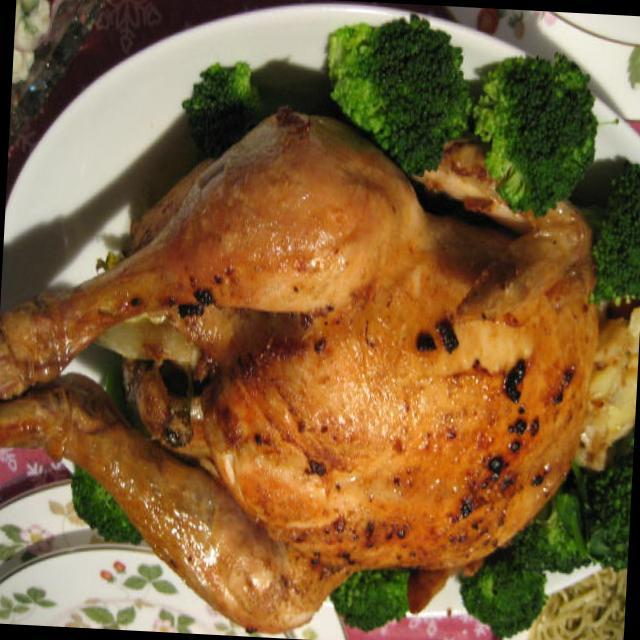Chicken: (0, 149, 604, 640)
